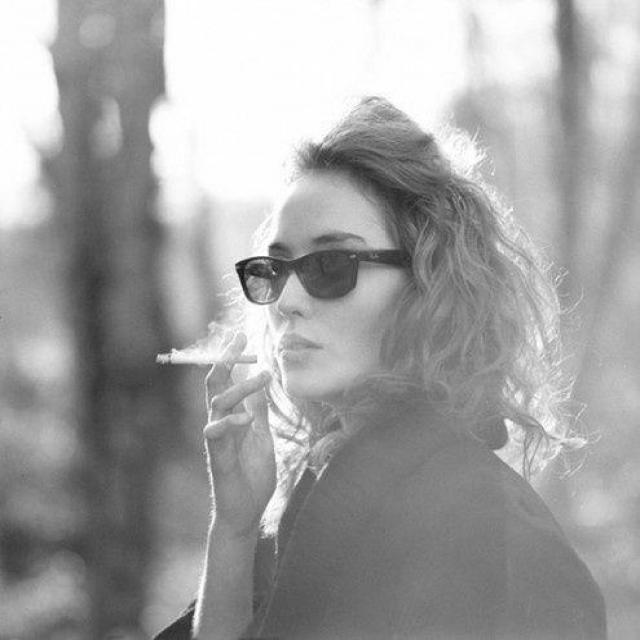smoke: (136, 340, 260, 372)
